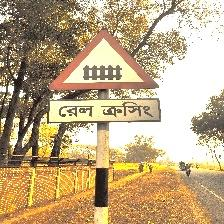Rail-crossing: (47, 29, 162, 126)
